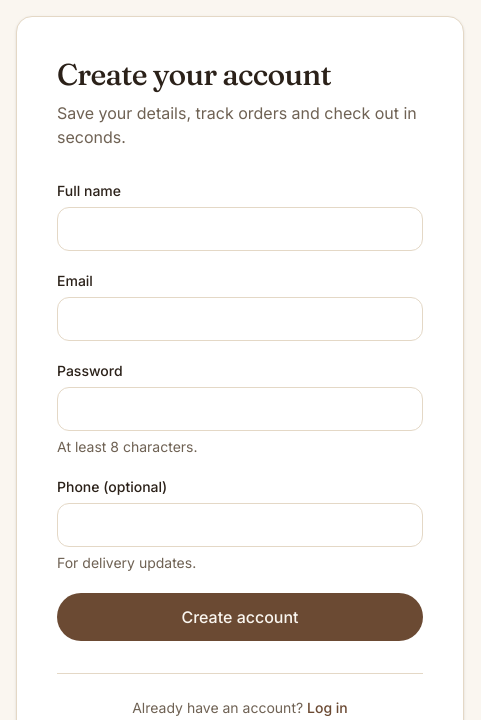
Test: register page › requires a password of at least 8 characters
The image size is (481, 720).
Type "short" into the password field labelled "Password" at (240, 409), box x1=57 y1=387 x2=423 y2=431
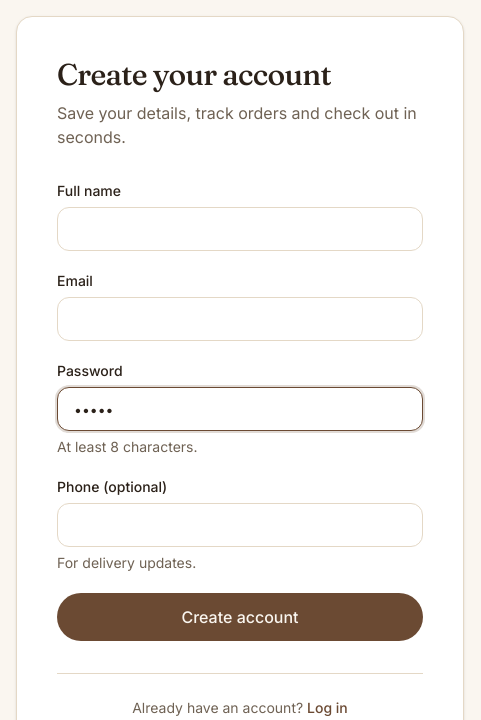
Click the button "Create account" at (240, 617), box x1=57 y1=593 x2=423 y2=641
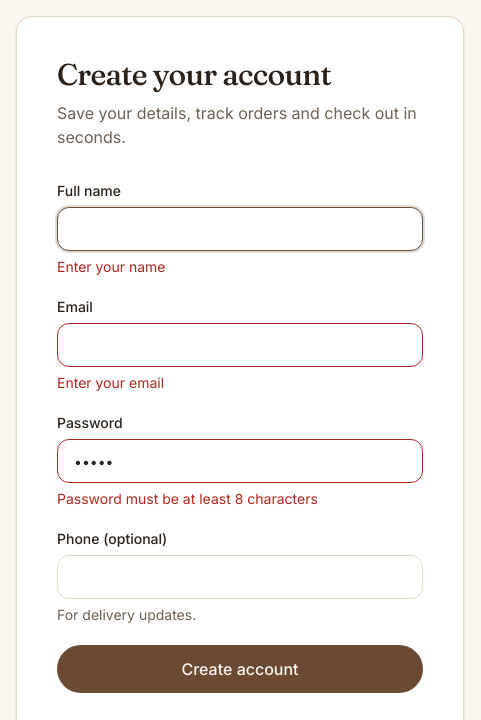
expect the text "Password must be at least 8 characters" is shown: met, box x1=57 y1=490 x2=318 y2=507
